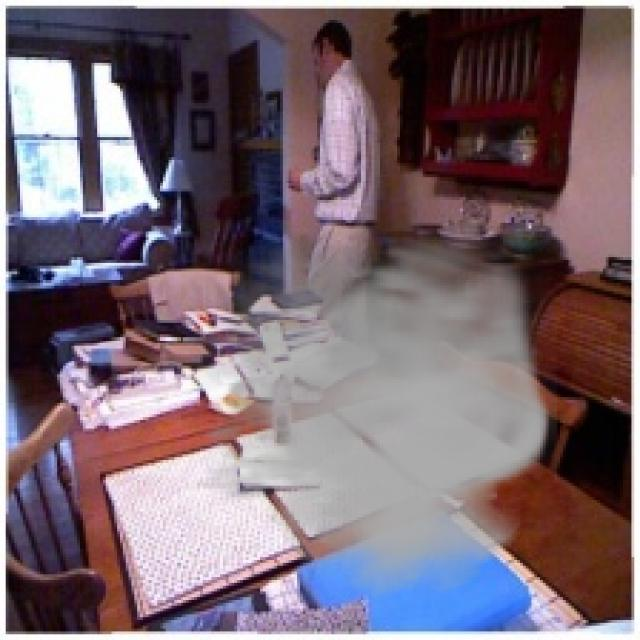smoke: (157, 212, 557, 597)
